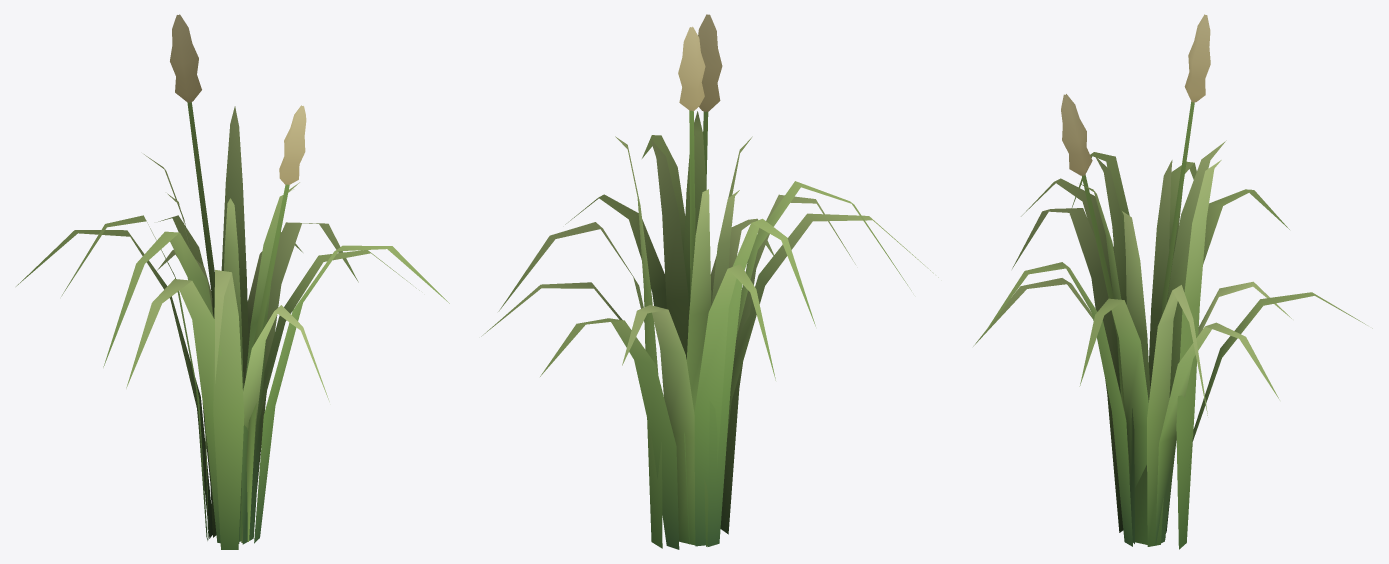
The model's file is deco-tallgrass-v2.glb.
3 views of the same model, side by side, from view 1: azimuth 30°, elevation 25°; view 2: azimuth 150°, elevation 25°; view 3: azimuth 270°, elevation 25° (orthographic). The views are drawn at different scales.
Parts seen in each view (by area): view 1: 0_tallgrass; view 2: 0_tallgrass; view 3: 0_tallgrass.
Boxes of the visible parts, <box> form: 0_tallgrass: <box>16,14,449,549</box>; 0_tallgrass: <box>481,14,938,549</box>; 0_tallgrass: <box>973,14,1372,549</box>.
Bounding box in the file's own units: 0.816 × 1.2 × 0.8567.
